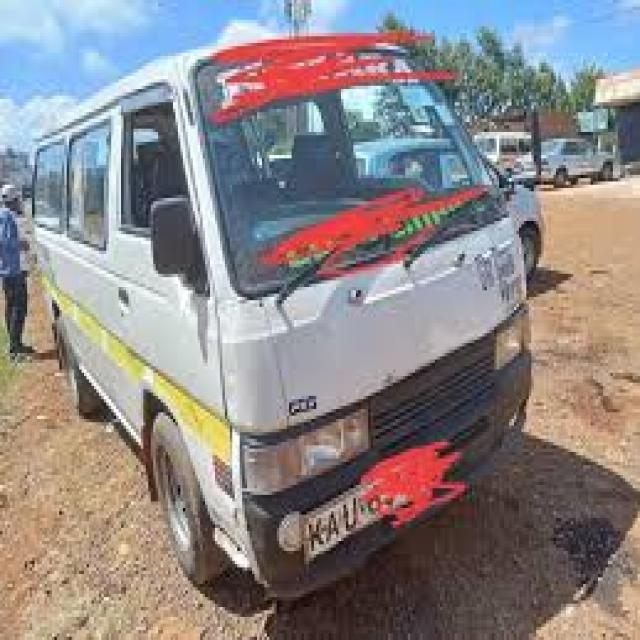matatu: (5, 18, 588, 622)
